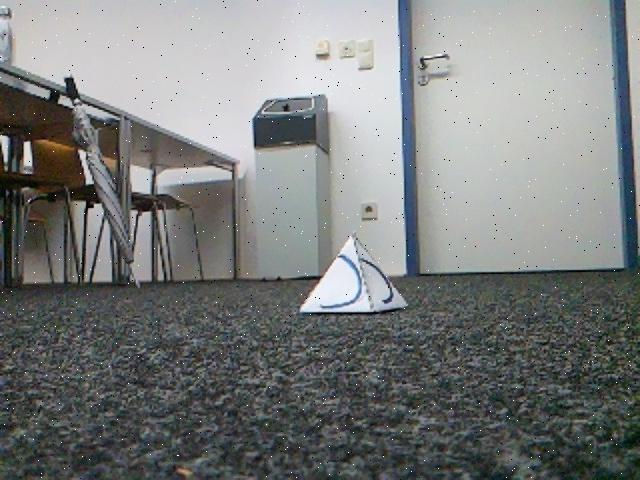C: (298, 233, 406, 315)
